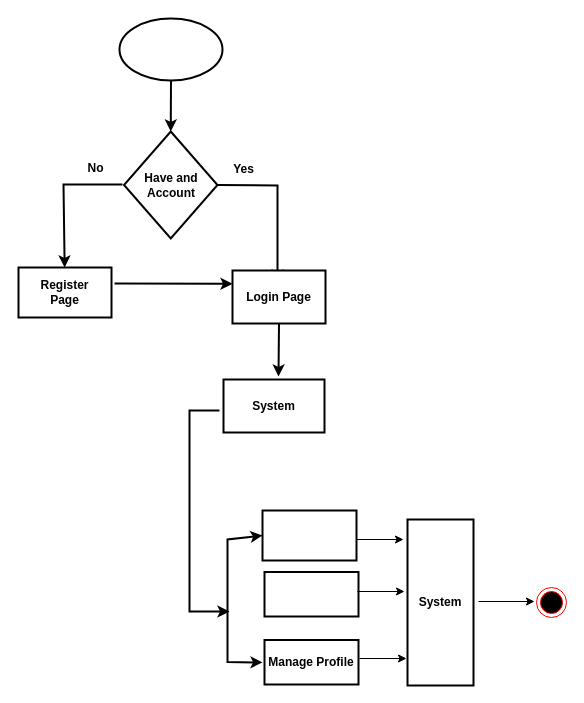
Some shapes in this 584 by 703 pixel diagram are drawn without their labels. Each missing label, with the centre of its shape:
Manage Comment: (311,593)
Manage Post: (309,535)
Start: (170,49)
